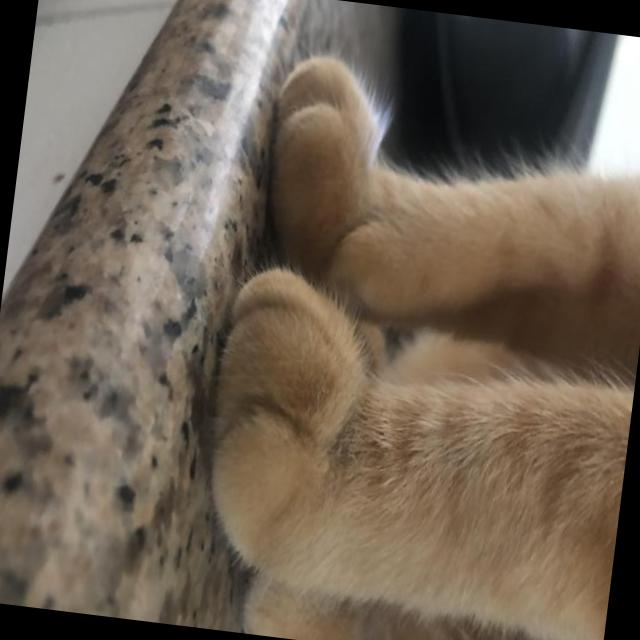Healthy skin: (322, 392, 626, 634), (396, 184, 640, 308), (225, 275, 328, 554), (275, 145, 398, 279)
